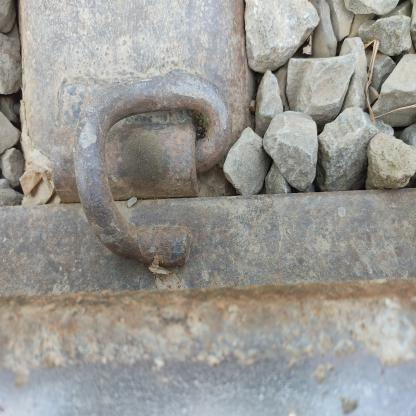Non Defective: (24, 29, 274, 352)
